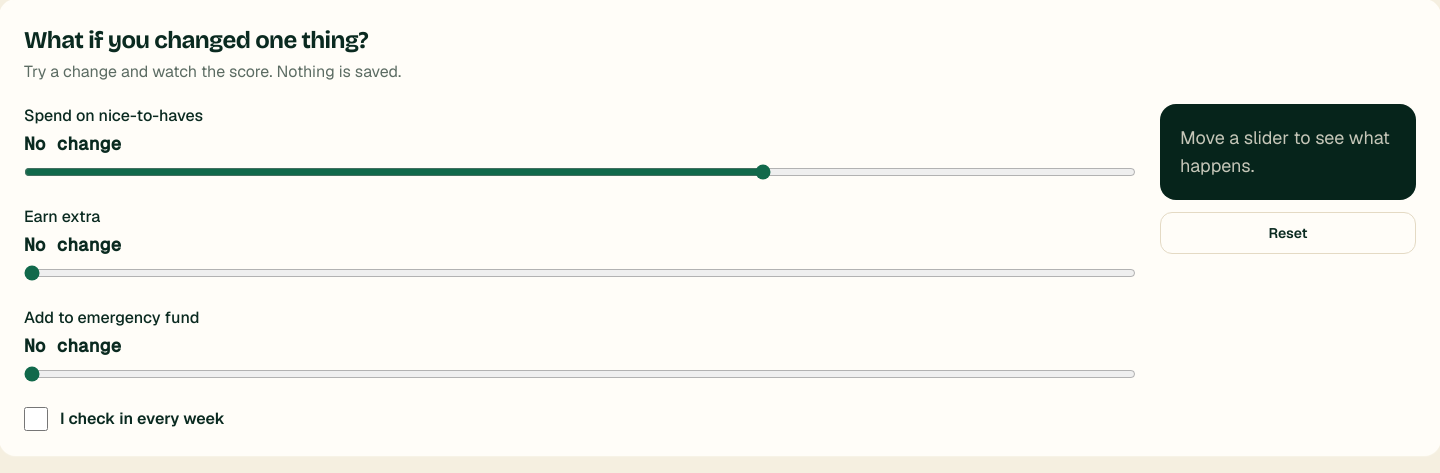
Test: WhatIf panel › "Make this my goal" (SG-01, SG-02) › saves exactly what was tried, and says which goal was created, with a link to it
Set the slider labelled "Spend on nice-to-haves" to "-5000" at point(658, 172), box [24, 166, 1136, 178]
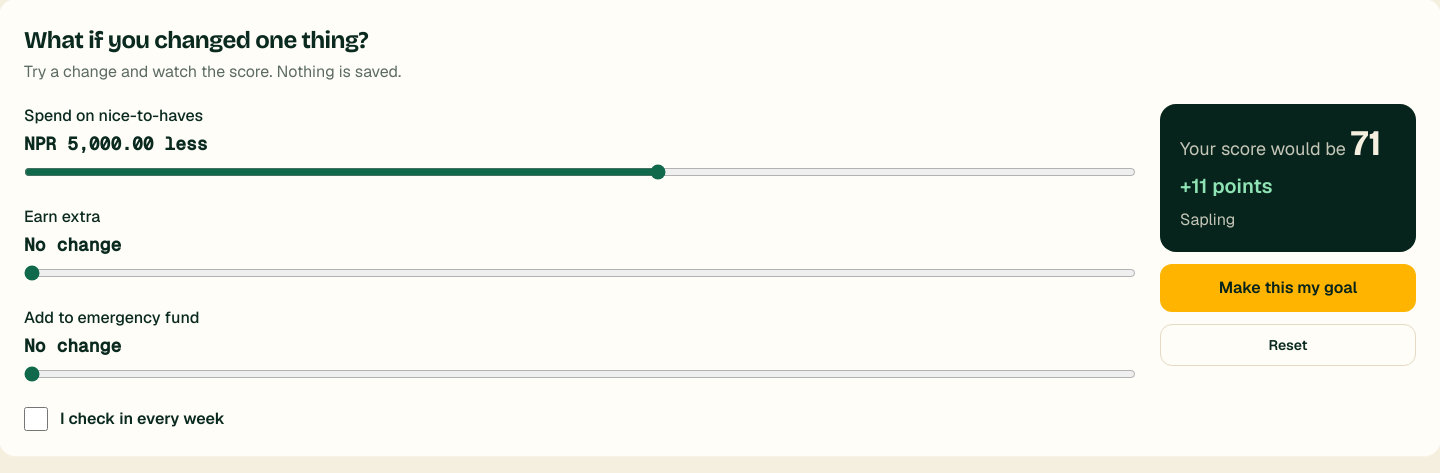
Click the button "Make this my goal" at point(1288, 288), box [1160, 264, 1416, 312]
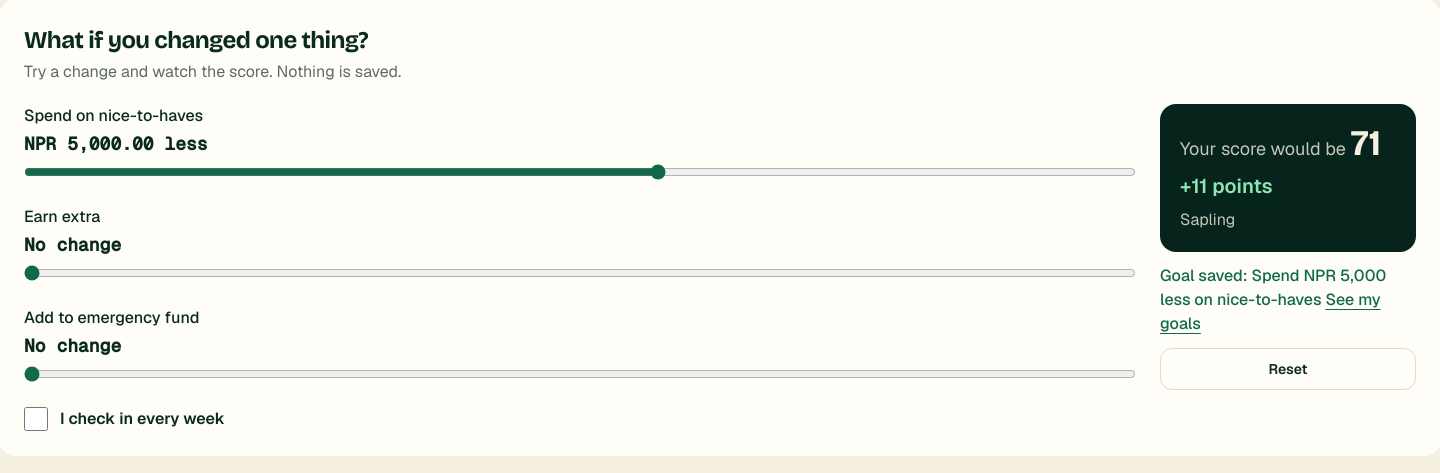
Check: the text "Goal saved: Spend NPR 5,000 less on nice-to-haves" is shown, box [1160, 265, 1386, 310]
